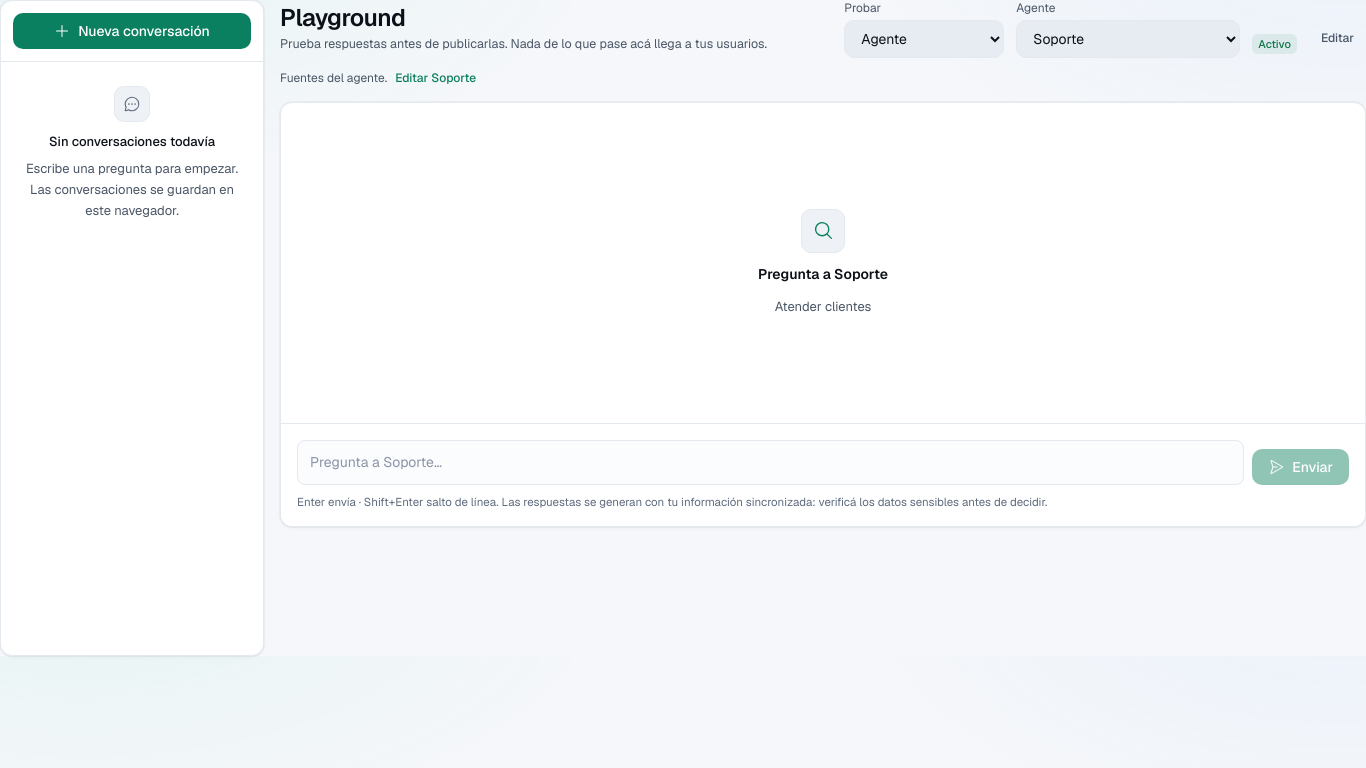
Test: Playground Chat › click derecho en la respuesta del agente abre Ver flujo
Expected: the dropdown named "Agente a probar" shows "Soporte", [1016, 20, 1240, 58]
Type "hola" into the text box named "Tu pregunta" at (771, 462), box [297, 440, 1244, 485]
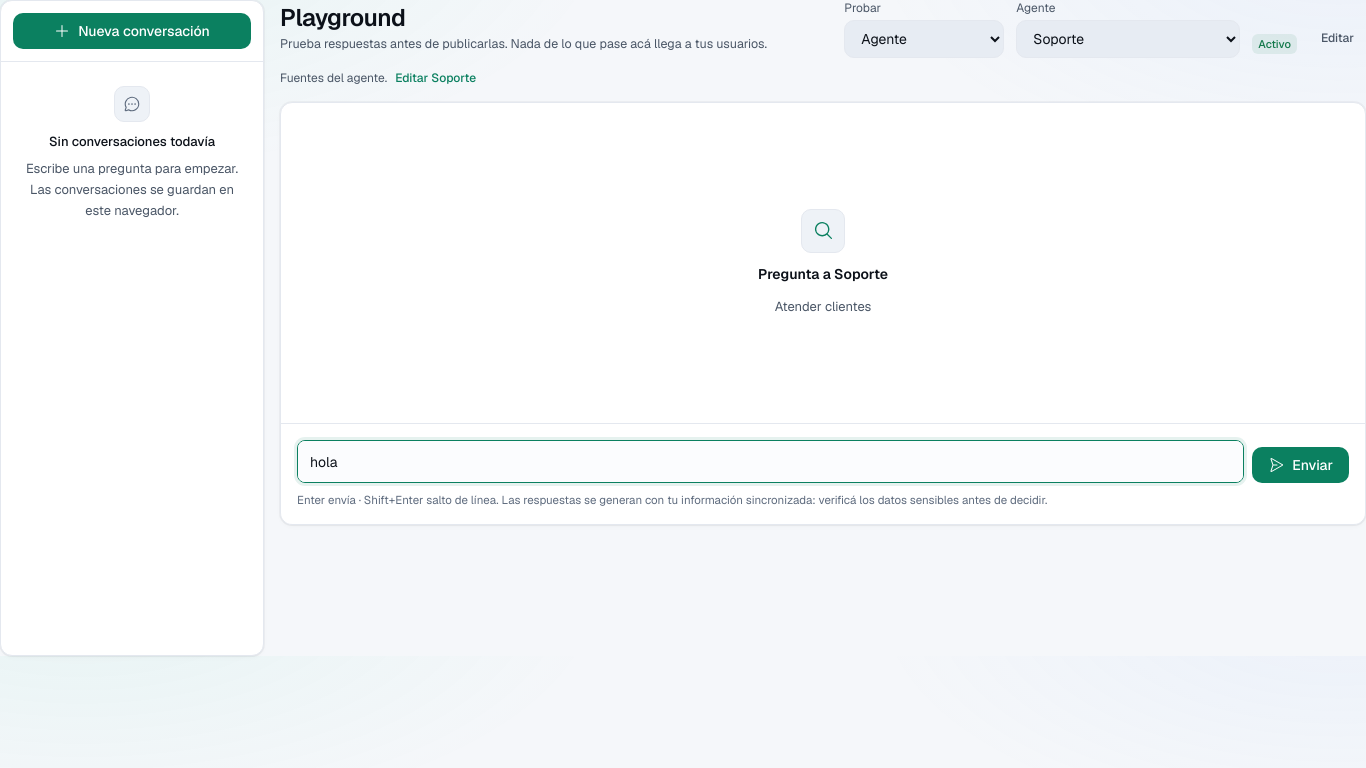
Click the button with aria-label "Enviar pregunta" at (1301, 465), box [1252, 447, 1349, 483]
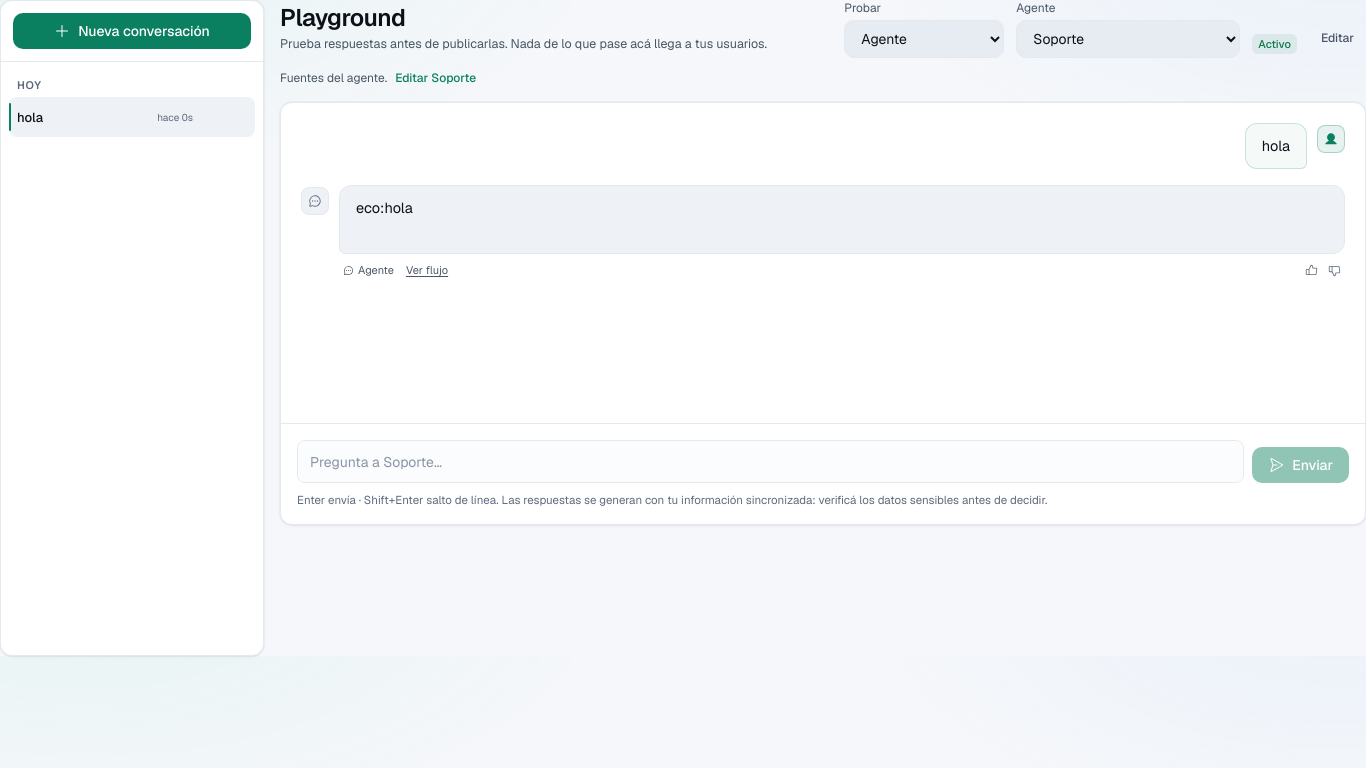
Right-click the text "eco:hola" at (842, 219), box [339, 185, 1345, 254]
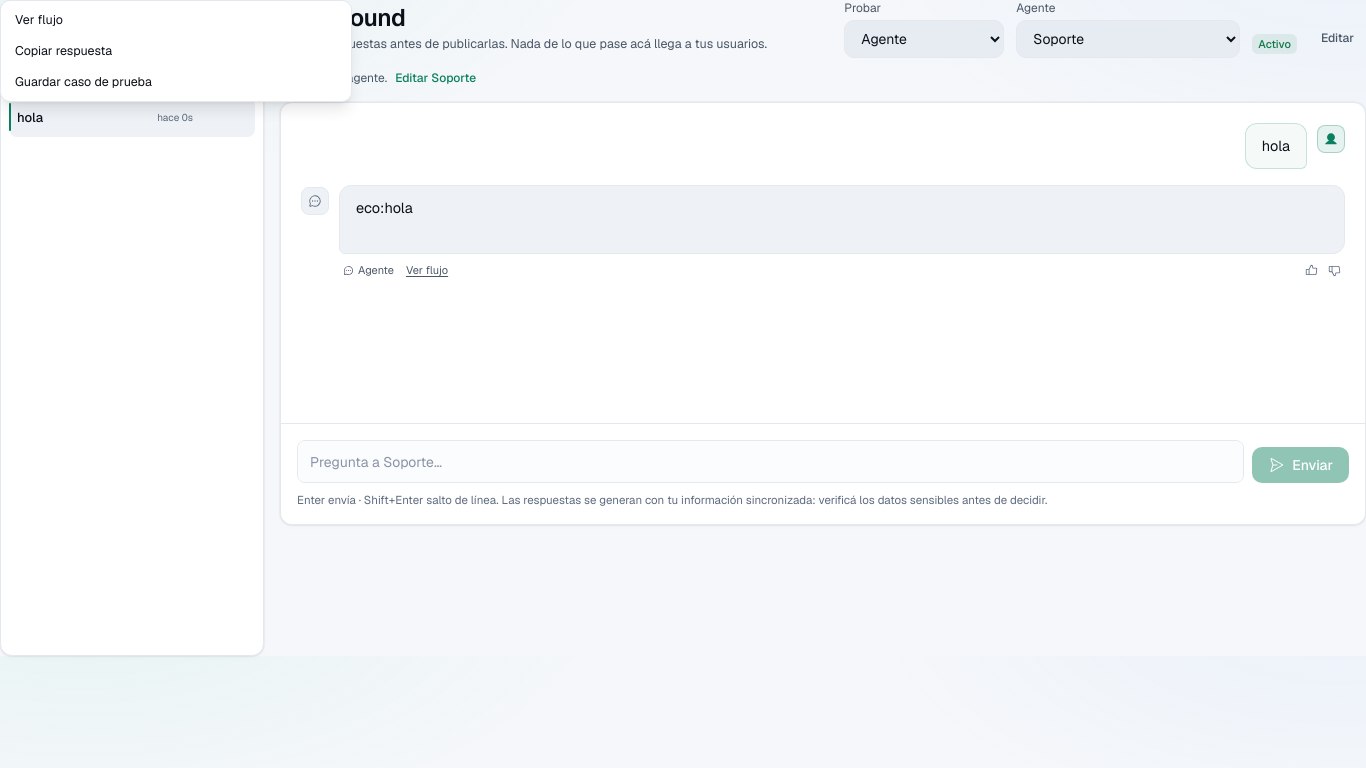
Click the menu item "Ver flujo" at (39, 20), box [5, 5, 347, 36]
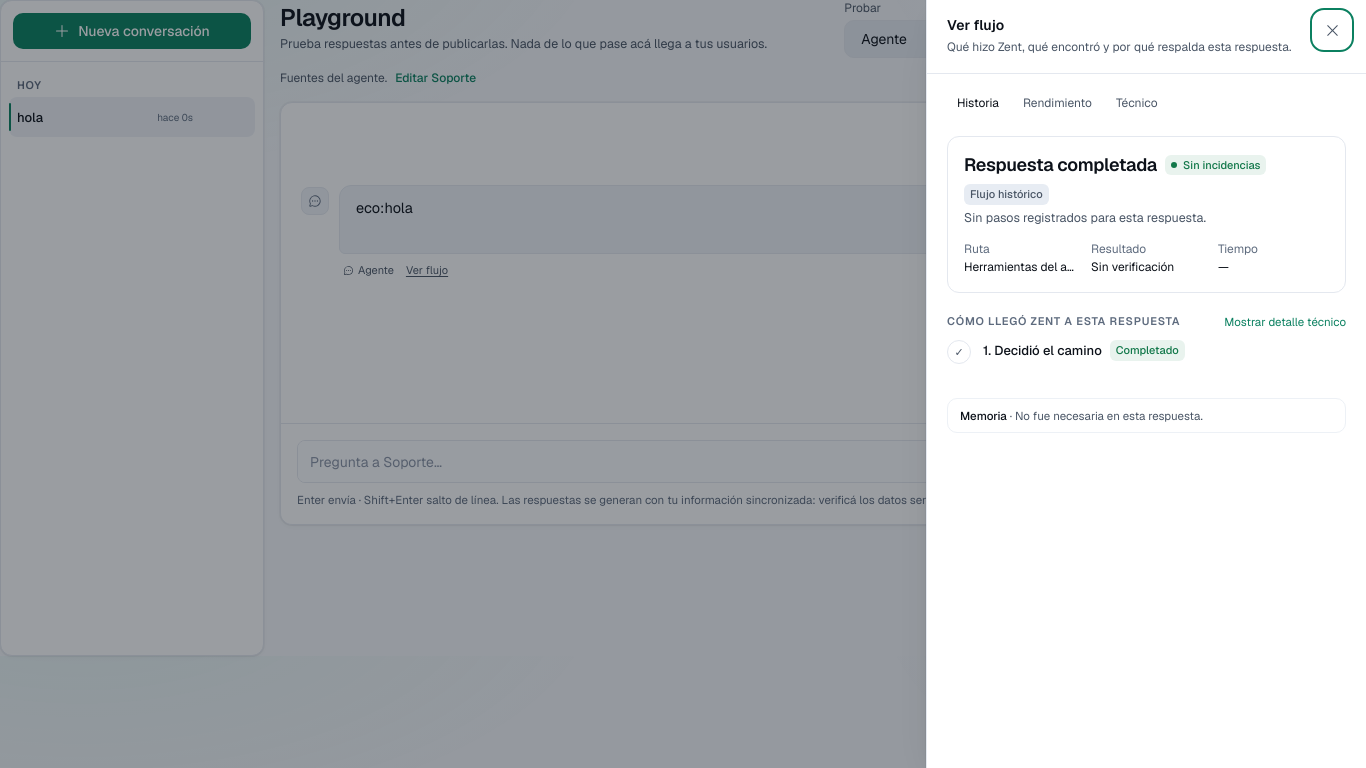
Result: the text "Respuesta completada" is shown at [964, 153, 1157, 176]
Result: the tab "Historia" is shown at [947, 90, 1009, 116]
